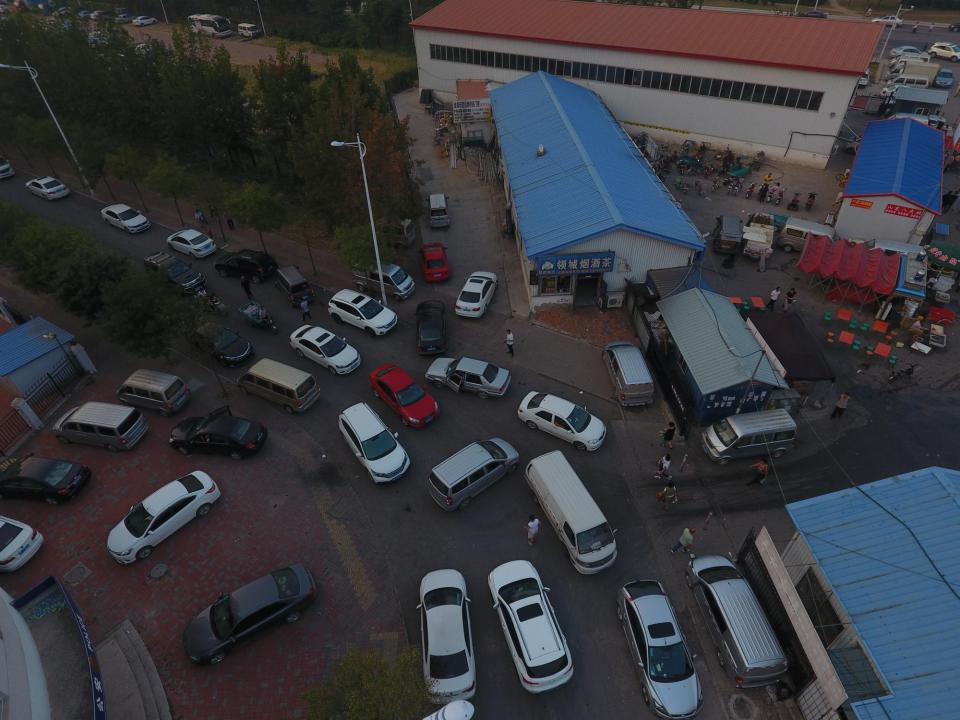bus: (186, 13, 232, 39)
car: (182, 562, 318, 667), (616, 579, 704, 719), (487, 559, 575, 694), (106, 469, 222, 564), (416, 568, 477, 704), (337, 400, 411, 486), (168, 404, 269, 461), (516, 391, 606, 452), (368, 362, 440, 430), (1, 453, 91, 507), (327, 287, 398, 339), (290, 324, 361, 376), (425, 357, 511, 399), (188, 320, 256, 368), (143, 250, 208, 296), (0, 515, 45, 574), (213, 248, 279, 284), (455, 270, 498, 319), (413, 301, 448, 357), (100, 203, 151, 234), (167, 229, 218, 260), (418, 242, 450, 283), (25, 175, 71, 201), (879, 84, 921, 100), (928, 41, 960, 62), (889, 45, 930, 61), (872, 14, 904, 28), (934, 68, 956, 88), (854, 66, 871, 88), (797, 9, 827, 20), (132, 15, 157, 27), (113, 13, 137, 24)
truck: (740, 212, 777, 262), (885, 61, 941, 84)
van: (686, 555, 788, 689), (524, 450, 618, 576), (427, 437, 520, 513), (700, 408, 798, 466), (51, 400, 150, 454), (237, 358, 322, 414), (116, 368, 194, 418), (601, 340, 654, 407), (351, 256, 416, 302), (776, 218, 844, 260), (856, 238, 926, 270), (362, 214, 418, 252), (272, 265, 316, 309), (876, 112, 946, 136), (712, 214, 744, 256), (844, 130, 893, 155), (425, 193, 451, 230), (886, 74, 929, 92), (888, 52, 930, 70), (894, 56, 930, 72), (0, 154, 16, 181), (236, 22, 262, 38)
